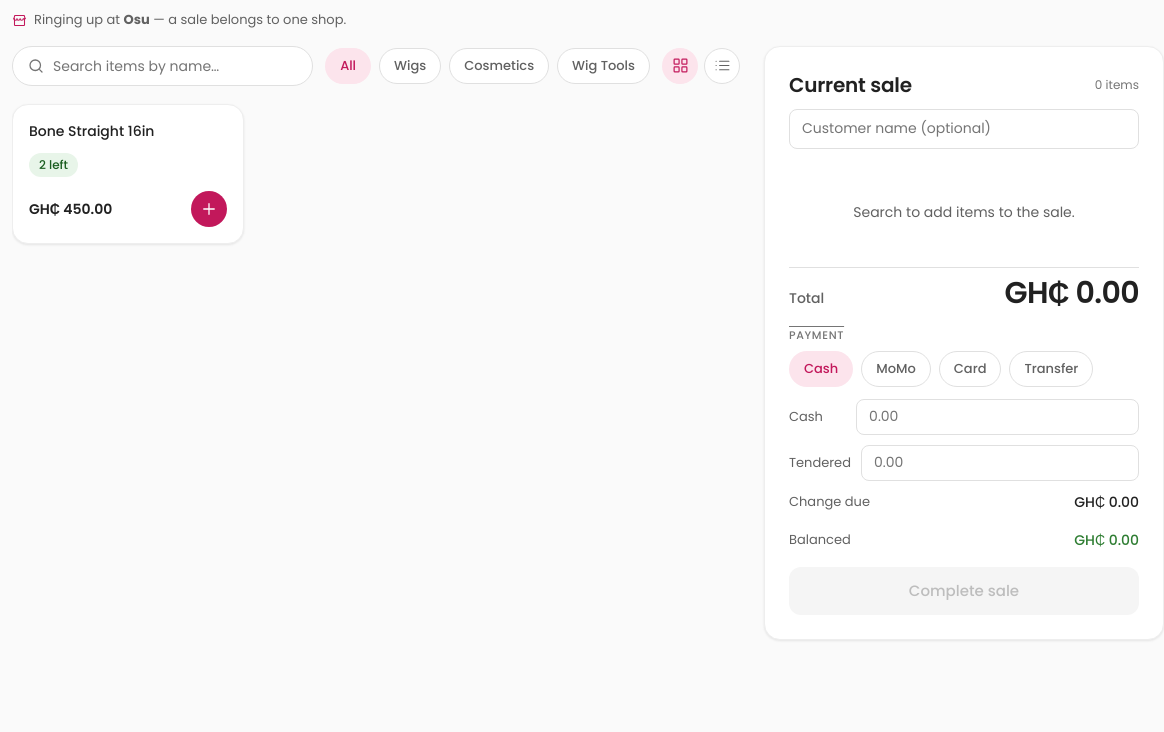
Scenario: SellView — sending a Sale on a flaky connection › retries network failures under the same id, then offers Retry, which resends that id
The width and height of the screenshot is (1164, 732).
Later steps or results of the test are not shown.
Click the button named "Add Bone Straight 16in": (209, 209) [191,191,227,227]
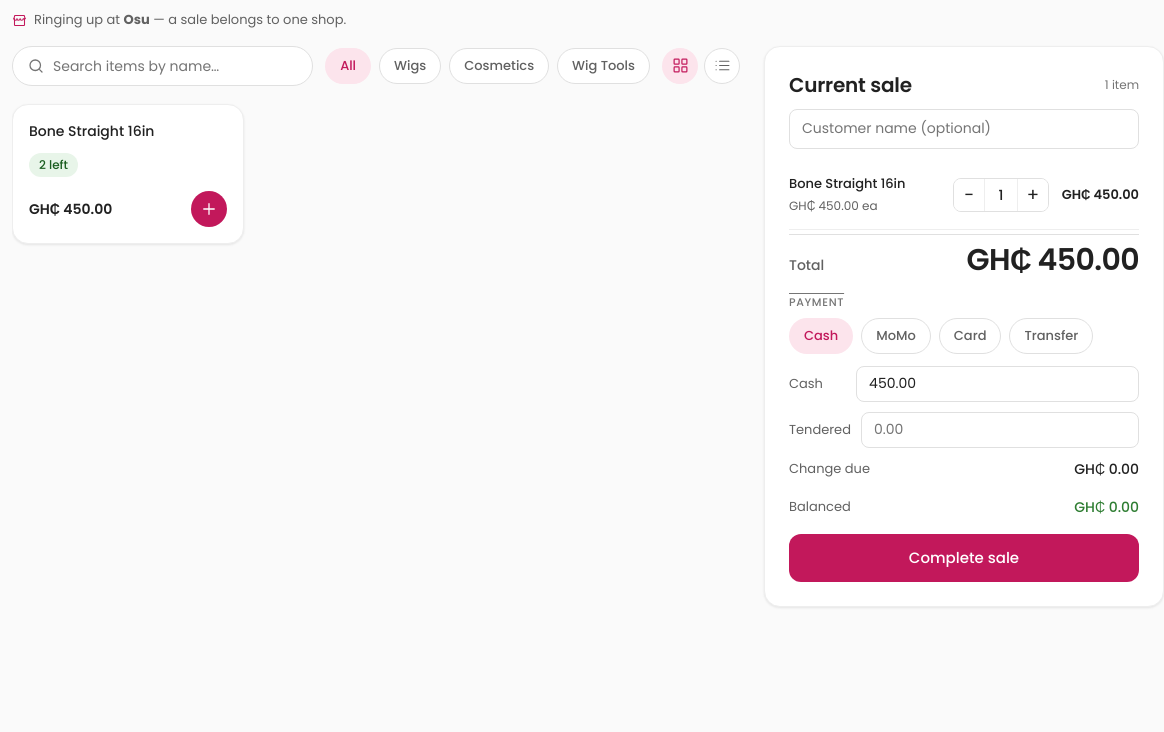
Click the button "Complete sale": (964, 558) [789,534,1139,582]
Wait 5000 ms
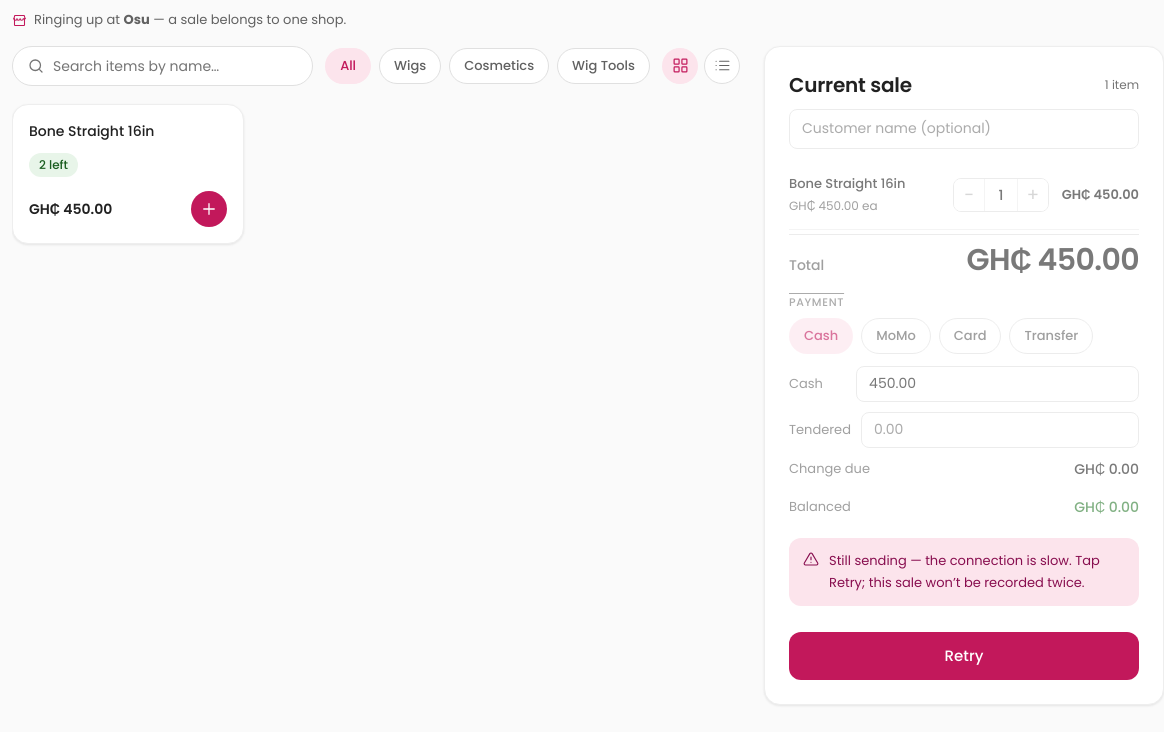
Check: the message shows "Still sending", box [829,551,1100,592]
